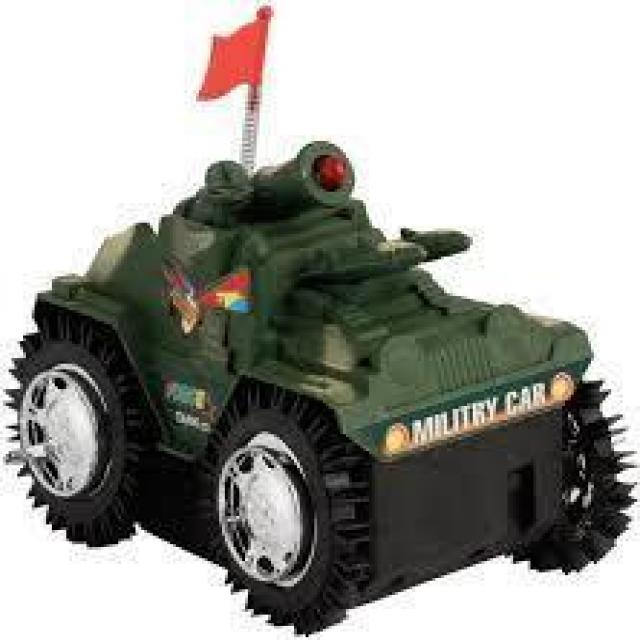Tanks: (12, 25, 565, 623)
